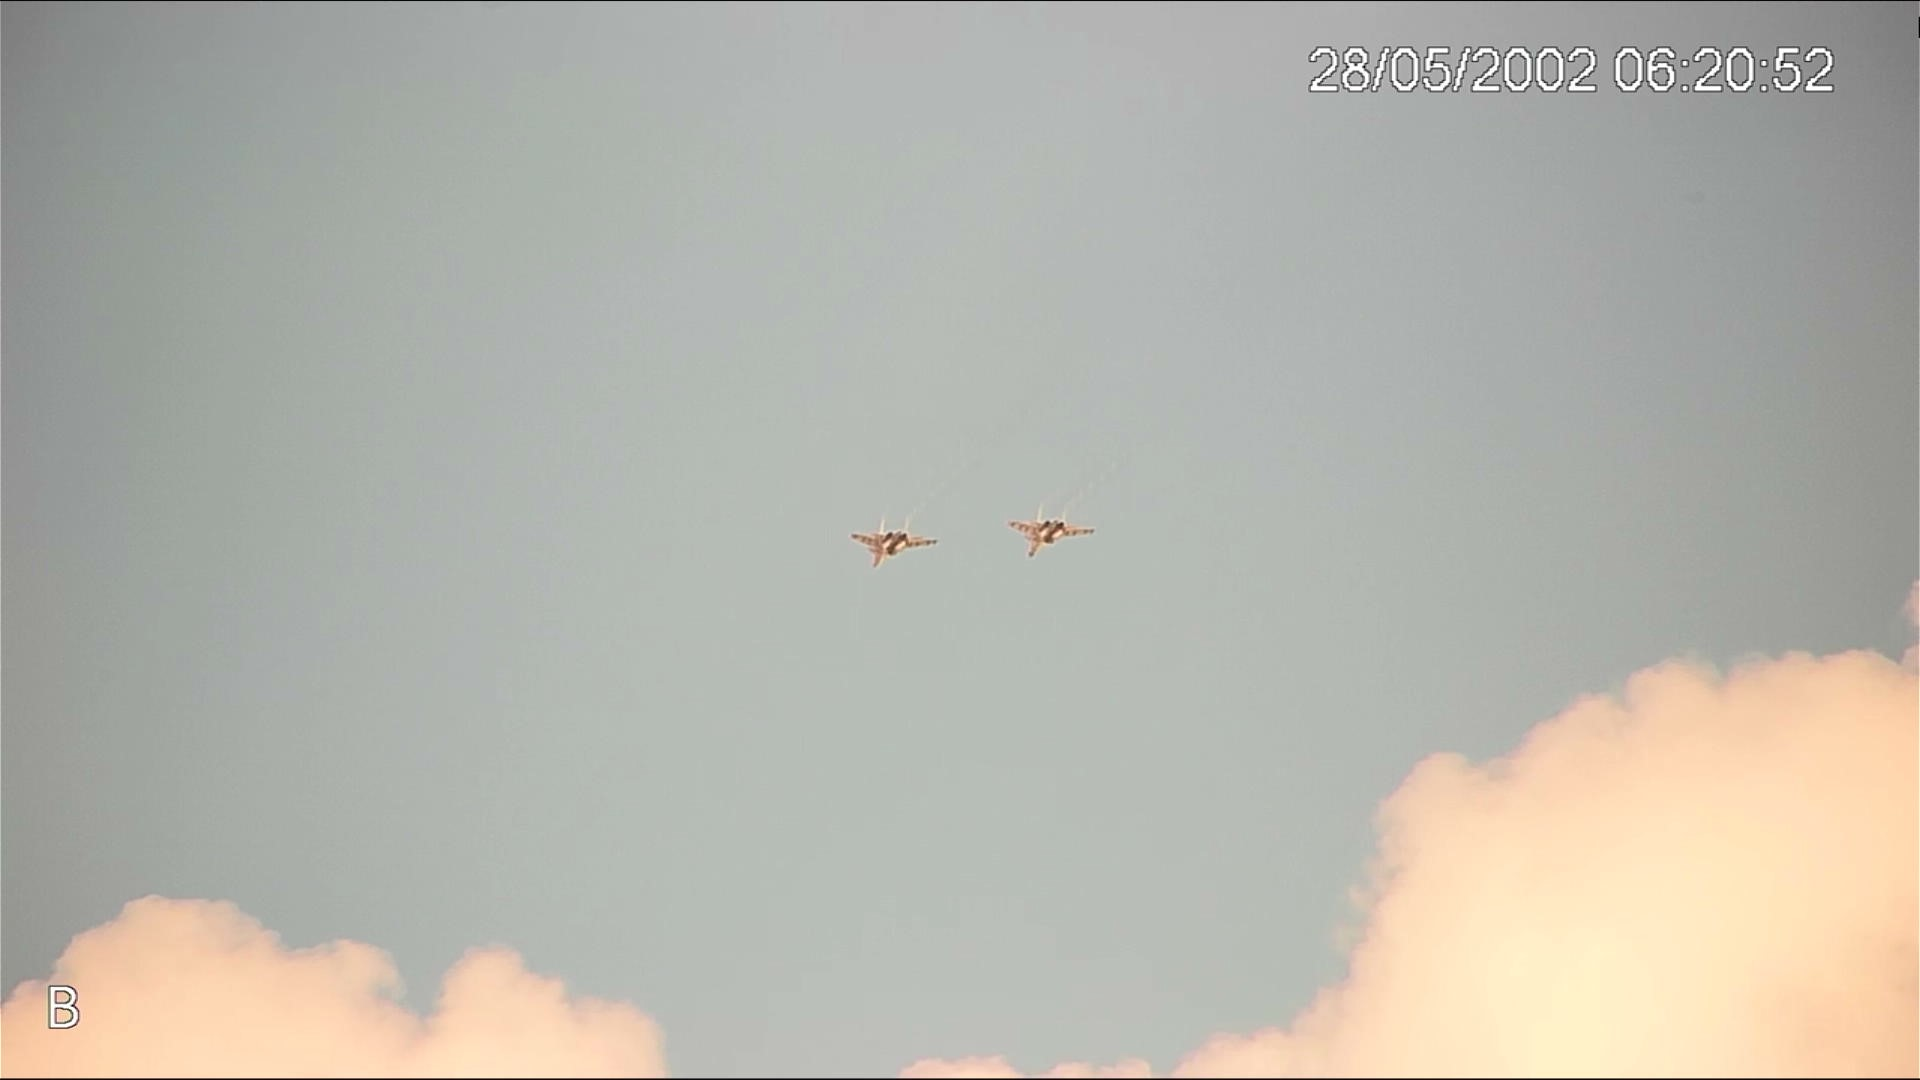SU_30: (1007, 502, 1104, 559), (851, 517, 936, 574)
